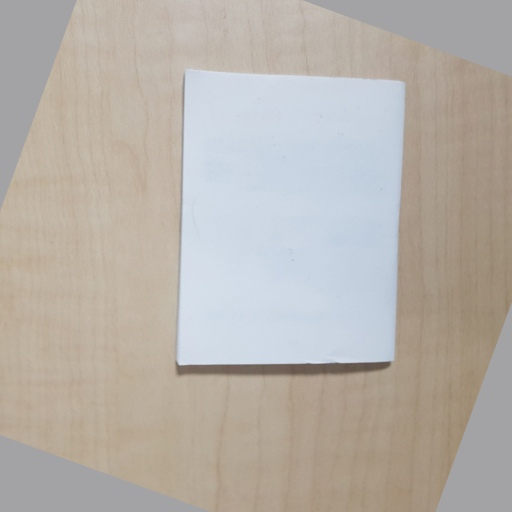Paper_2: (166, 57, 417, 389)
